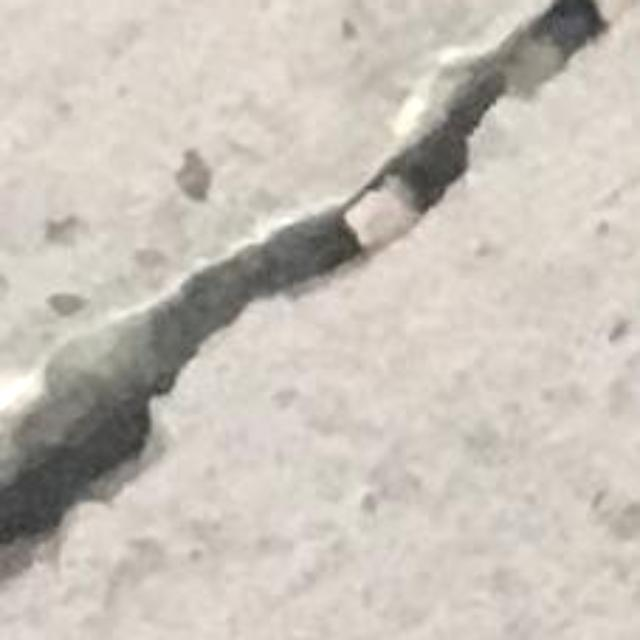crack: (0, 0, 611, 582)
